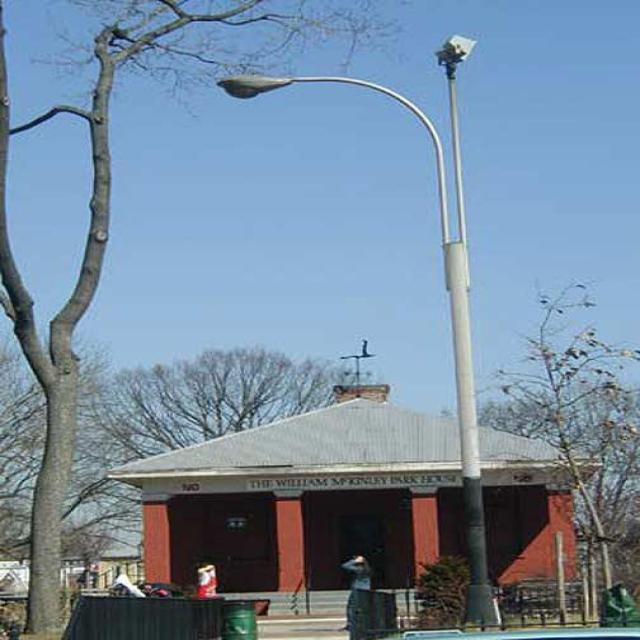off: (190, 43, 528, 160)
